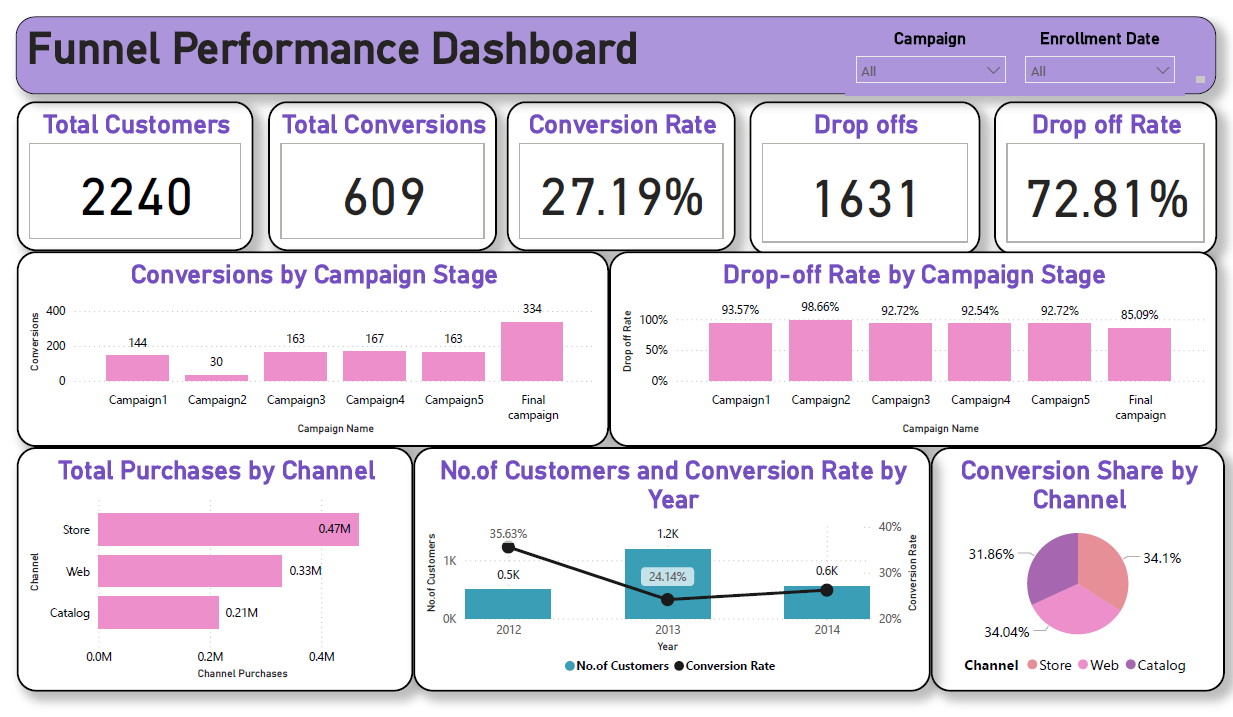

The dashboard page shown, as its layout file describes it:
{"tool":"powerbi","page":{"name":"Funnel Performance ","canvas":[1280,720],"ordinal":0},"visuals":[{"type":"cardVisual","title":"Total Customers","fields":{"Data":["DAX Measure.No.of Customers"]},"box":[28.4,87.1,243,153.9],"z":0},{"type":"cardVisual","title":"Total Conversions","fields":{"Data":["DAX Measure.Conversions"]},"box":[285.6,87.1,234.9,153.9],"z":1000},{"type":"cardVisual","title":"Conversion Rate","fields":{"Data":["DAX Measure.Conversion Rate"]},"box":[530.6,87.1,234.9,153.9],"z":2000},{"type":"cardVisual","title":"Drop off Rate","fields":{"Data":["DAX Measure.Drop off Rate"]},"box":[1030.9,87.1,228.9,158],"z":3000},{"type":"cardVisual","title":"Drop offs","fields":{"Data":["DAX Measure.Drop off Count"]},"box":[779.7,87.1,237,158],"z":4000},{"type":"columnChart","title":"Conversions by Campaign Stage","fields":{"Category":["Dim_Campaign.Campaign Name "],"Y":["DAX Measure.Conversions"]},"box":[28.4,241,607.6,200.5],"z":5000},{"type":"columnChart","title":"Drop-off Rate by Campaign Stage","fields":{"Category":["Dim_Campaign.Campaign Name "],"Y":["DAX Measure.Drop off Rate"]},"box":[635.9,241,623.8,200.5],"z":6000},{"type":"textbox","title":"Funnel Performance Dashboard","box":[27.5,0,1231.4,80.4],"z":7000},{"type":"barChart","title":"Total Purchases by Channel","fields":{"Y":["DAX Measure.Channel Purchases"],"Category":["Dim-Channel.Channel"]},"box":[28.4,441.5,407.1,251.1],"z":8000},{"type":"pieChart","title":"Conversion Share by Channel","fields":{"Category":["Dim-Channel.Channel"],"Y":["DAX Measure.Channel Conversions"]},"box":[966.1,441.5,301.8,251.1],"z":9000},{"type":"slicer","title":"Campaign","fields":{"Values":["Dim_Campaign.Campaign Name "]},"box":[879,12.2,174.2,68.9],"z":10000},{"type":"slicer","title":"Enrollment Date","fields":{"Values":["Dim_Customer.Enrollment_Date.Variation.Date Hierarchy.Year","Dim_Customer.Enrollment_Date.Variation.Date Hierarchy.Quarter"]},"box":[1053.2,12.2,174.2,68.9],"z":11000},{"type":"lineStackedColumnComboChart","fields":{"Category":["Dim_Customer.Enrollment_Date.Variation.Date Hierarchy.Year","Dim_Customer.Enrollment_Date.Variation.Date Hierarchy.Quarter","Dim_Customer.Enrollment_Date.Variation.Date Hierarchy.Month","Dim_Customer.Enrollment_Date.Variation.Date Hierarchy.Day"],"Y":["DAX Measure.No.of Customers"],"Y2":["DAX Measure.Conversion Rate"]},"box":[434.5,441.4,531,251.7],"z":12000}]}

Visuals, with their boxes in screenshot pixels (x1, y1, x2, y2):
"Total Customers" cardVisual: locate(12, 95, 251, 247)
"Total Conversions" cardVisual: locate(265, 95, 497, 247)
"Conversion Rate" cardVisual: locate(507, 95, 738, 247)
"Drop off Rate" cardVisual: locate(999, 95, 1225, 251)
"Drop offs" cardVisual: locate(752, 95, 985, 251)
"Conversions by Campaign Stage" columnChart: locate(12, 247, 610, 444)
"Drop-off Rate by Campaign Stage" columnChart: locate(610, 247, 1225, 444)
"Funnel Performance Dashboard" textbox: locate(11, 10, 1224, 89)
"Total Purchases by Channel" barChart: locate(12, 444, 413, 692)
"Conversion Share by Channel" pieChart: locate(935, 444, 1232, 692)
"Campaign" slicer: locate(850, 22, 1021, 90)
"Enrollment Date" slicer: locate(1021, 22, 1193, 90)
lineStackedColumnComboChart - Dim_Customer.Enrollment_Date.Variation.Date Hierarchy.Year x Dim_Customer.Enrollment_Date.Variation.Date Hierarchy.Quarter: locate(412, 444, 935, 692)
